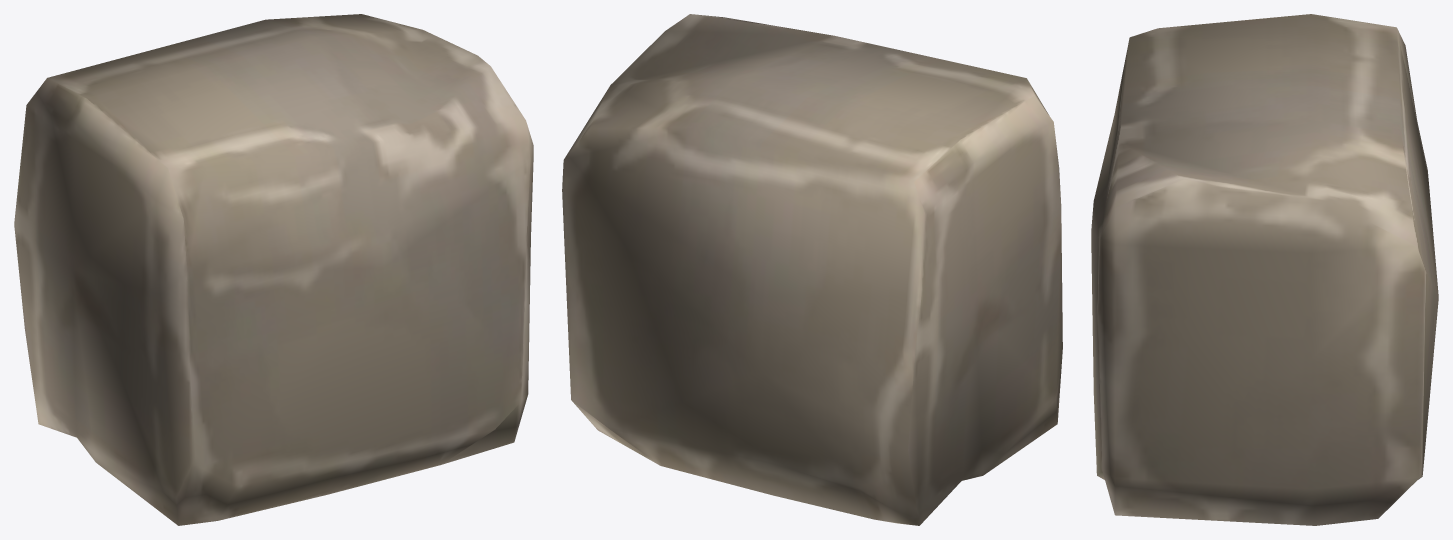
The model's file is Prop_Brick4.glb.
3 views of the same model, side by side, from view 1: azimuth 30°, elevation 25°; view 2: azimuth 150°, elevation 25°; view 3: azimuth 270°, elevation 25° (orthographic).
Parts seen in each view (by area): view 1: Prop_Brick4; view 2: Prop_Brick4; view 3: Prop_Brick4.
Part boxes in pixels (x1,y1,x2,y2): Prop_Brick4: (14,14,533,525); Prop_Brick4: (562,14,1062,525); Prop_Brick4: (1091,14,1438,525).
Bounding box in the file's own units: 0.2567 × 0.2497 × 0.2156.
Materials: 1 (1 with a texture image).
